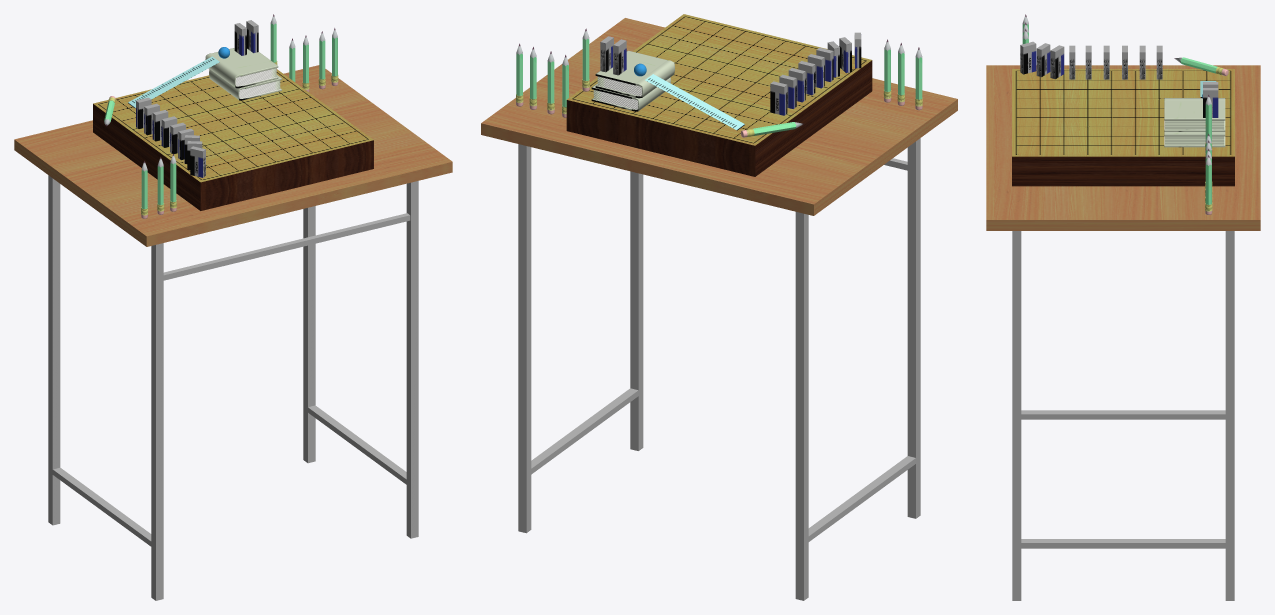
File: slider_on_desk_limes_v3.glb
The picture shows the model from 3 angles, left to right: view 1: azimuth 30°, elevation 25°; view 2: azimuth 150°, elevation 25°; view 3: azimuth 270°, elevation 25°; orthographic projection. The views are drawn at different scales.
Visible parts, largest first — view 1: board, desk_top, desk_leg4, desk_leg2, desk_leg3, desk_leg1, desk_bar_top_1to3, book02, desk_bar_bottom_3to4, desk_bar_bottom_1to2, book01, Ruler; view 2: board, desk_top, desk_leg3, desk_leg1, desk_leg4, desk_leg2, book02, desk_bar_bottom_3to4, desk_bar_bottom_1to2, Ruler, book01; view 3: board, desk_top, desk_leg1, desk_leg2, desk_bar_bottom_1to2, desk_bar_bottom_3to4, book02, book01, eraser11, eraser10, eraser09, Dwarf_Pencil06 (+1 smaller).
Part boxes in pixels (x1=…): board: x1=93, y1=69, x2=373, y2=210; desk_top: x1=14, y1=65, x2=452, y2=246; desk_leg4: x1=151, y1=243, x2=163, y2=600; desk_leg2: x1=406, y1=181, x2=418, y2=538; desk_leg3: x1=48, y1=175, x2=60, y2=525; desk_leg1: x1=303, y1=206, x2=315, y2=463; desk_bar_top_1to3: x1=163, y1=213, x2=410, y2=280; book02: x1=205, y1=48, x2=278, y2=88; desk_bar_bottom_3to4: x1=50, y1=467, x2=153, y2=546; desk_bar_bottom_1to2: x1=308, y1=405, x2=408, y2=485; book01: x1=209, y1=69, x2=281, y2=100; Ruler: x1=128, y1=56, x2=219, y2=108; board: x1=566, y1=14, x2=872, y2=176; desk_top: x1=481, y1=18, x2=957, y2=215; desk_leg3: x1=795, y1=212, x2=808, y2=600; desk_leg1: x1=518, y1=144, x2=531, y2=533; desk_leg4: x1=907, y1=138, x2=920, y2=518; desk_leg2: x1=630, y1=171, x2=643, y2=450; book02: x1=595, y1=50, x2=674, y2=98; desk_bar_bottom_3to4: x1=808, y1=456, x2=918, y2=541; desk_bar_bottom_1to2: x1=529, y1=388, x2=638, y2=474; Ruler: x1=645, y1=74, x2=744, y2=130; book01: x1=591, y1=77, x2=670, y2=111; board: x1=1012, y1=69, x2=1234, y2=186; desk_top: x1=986, y1=65, x2=1260, y2=230; desk_leg1: x1=1225, y1=231, x2=1234, y2=600; desk_leg2: x1=1012, y1=231, x2=1021, y2=600; desk_bar_bottom_1to2: x1=1017, y1=539, x2=1229, y2=548; desk_bar_bottom_3to4: x1=1021, y1=410, x2=1225, y2=419; book02: x1=1164, y1=98, x2=1225, y2=131; book01: x1=1164, y1=132, x2=1225, y2=147; eraser11: x1=1020, y1=41, x2=1036, y2=74; eraser10: x1=1036, y1=43, x2=1050, y2=77; eraser09: x1=1050, y1=45, x2=1064, y2=79; Dwarf_Pencil06: x1=1174, y1=57, x2=1228, y2=75.
Bounding box in the file's own units: 12 × 17.44 × 9.
19 materials, 17 textured.
